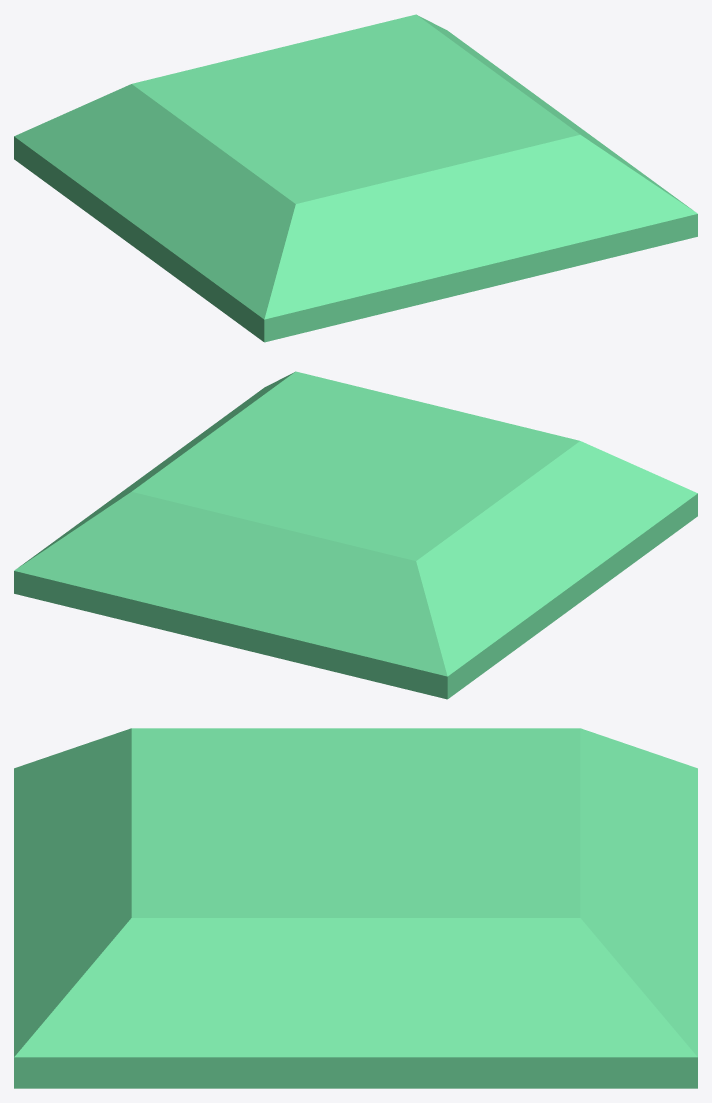
The model's file is Town_Bld-Med_Roof-Cube.FBX.
The picture shows the model from 3 angles, top to bottom: view 1: azimuth 30°, elevation 25°; view 2: azimuth 150°, elevation 25°; view 3: azimuth 270°, elevation 25°; orthographic projection. The views are drawn at different scales.
Visible parts, largest first — view 1: Town_Bld-Med_Roof-Cube; view 2: Town_Bld-Med_Roof-Cube; view 3: Town_Bld-Med_Roof-Cube.
Part boxes in pixels (x1,y1,x2,y2): Town_Bld-Med_Roof-Cube: (14,14,697,342); Town_Bld-Med_Roof-Cube: (14,371,697,699); Town_Bld-Med_Roof-Cube: (14,728,697,1088).
Size of the model in its own units: 640 by 125 by 640.
